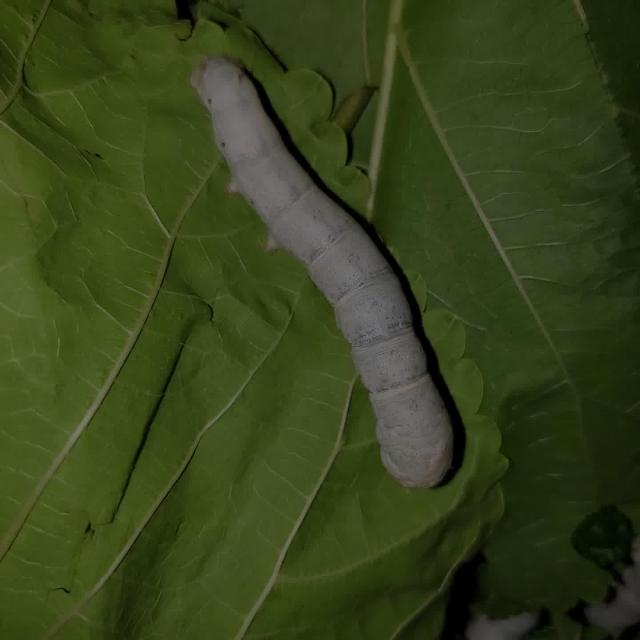Healthy: (181, 51, 478, 498)
